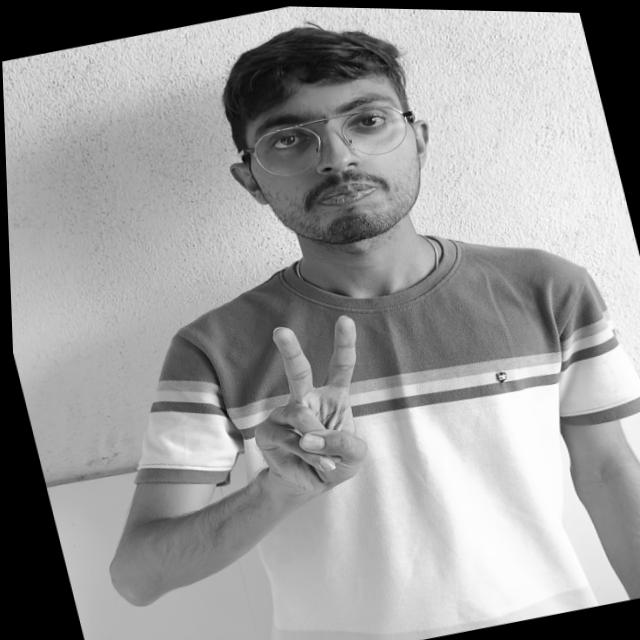Victory: (170, 282, 481, 522)
